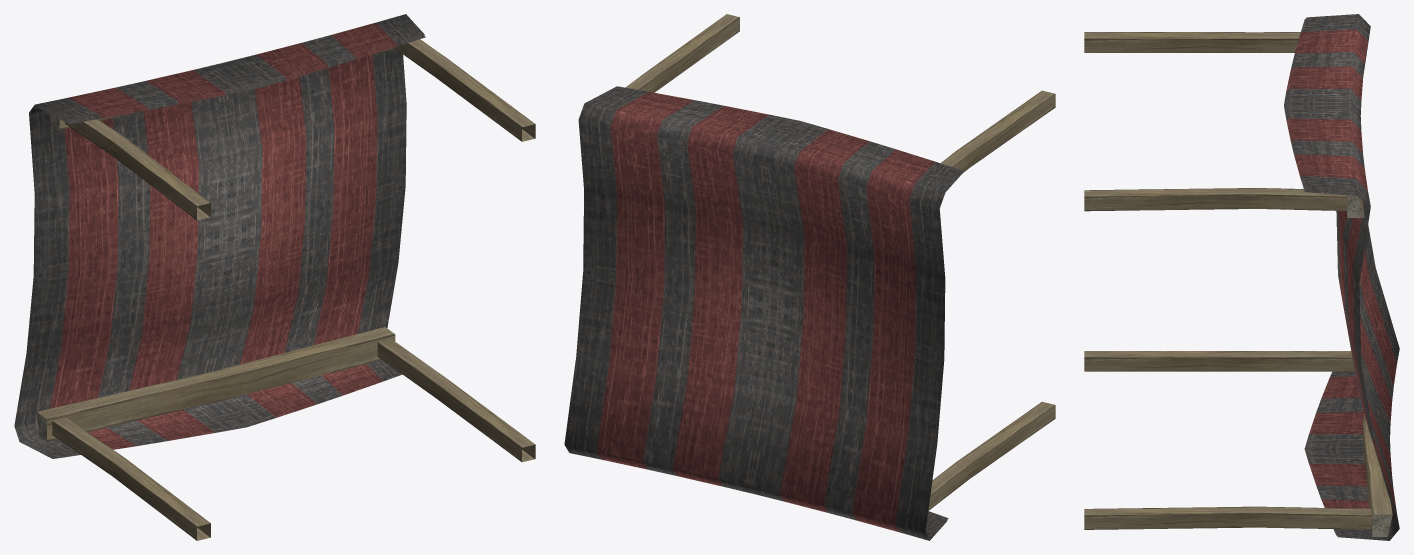
Rendered from Merchant_Tent_Type_02_A.fbx.
The picture shows the model from 3 angles, left to right: view 1: azimuth 30°, elevation 25°; view 2: azimuth 150°, elevation 25°; view 3: azimuth 270°, elevation 25°; orthographic projection. The views are drawn at different scales.
Parts seen in each view (by area): view 1: Merchant_Tent_Type_02_A; view 2: Merchant_Tent_Type_02_A; view 3: Merchant_Tent_Type_02_A.
Boxes of the visible parts, left/top/right/bottom form: Merchant_Tent_Type_02_A: left=14, top=14, right=535, bottom=540; Merchant_Tent_Type_02_A: left=564, top=14, right=1055, bottom=540; Merchant_Tent_Type_02_A: left=1084, top=14, right=1399, bottom=540.
Size of the model in its own units: 5.26 by 4.73 by 3.89.
